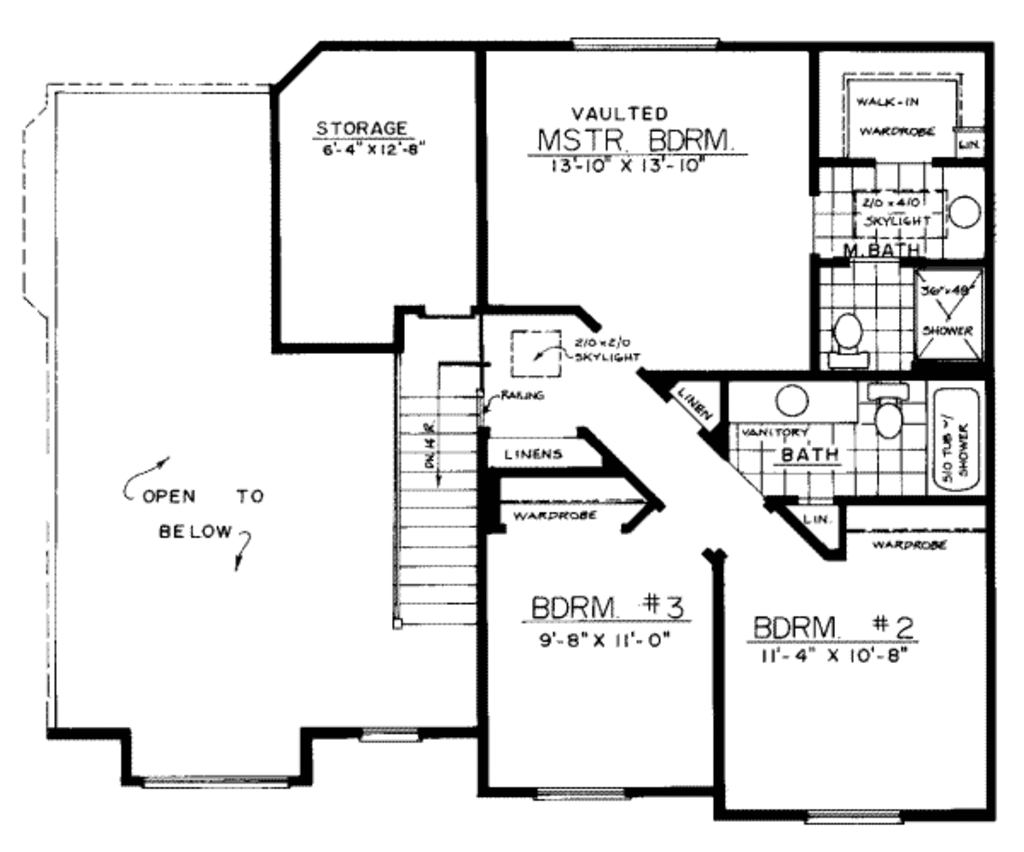large_sink: (868, 373, 910, 444), (827, 315, 875, 371)
small_sink: (714, 372, 863, 433), (947, 160, 989, 260)
stairs: (392, 308, 479, 630)
tub: (927, 379, 979, 493)
window: (798, 801, 909, 833), (143, 775, 292, 798), (539, 780, 631, 808), (571, 35, 717, 50), (360, 723, 427, 744)
